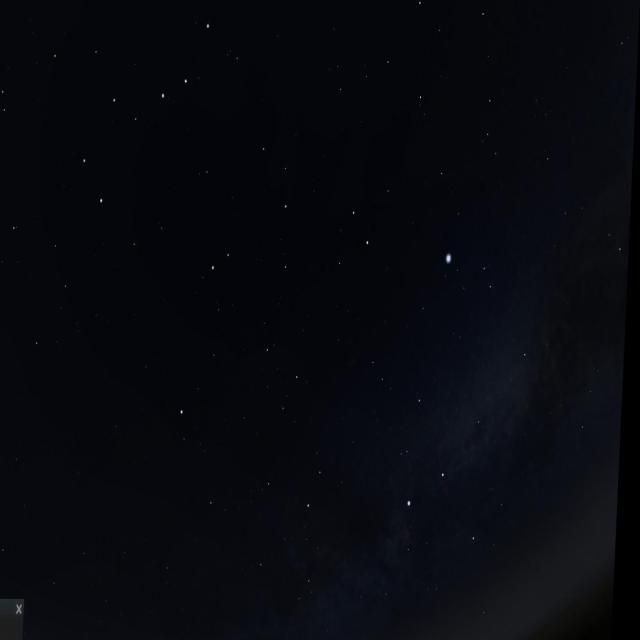cygnus: (400, 354, 540, 563)
lyra: (432, 231, 506, 309)
ursa_major: (65, 23, 219, 224)
